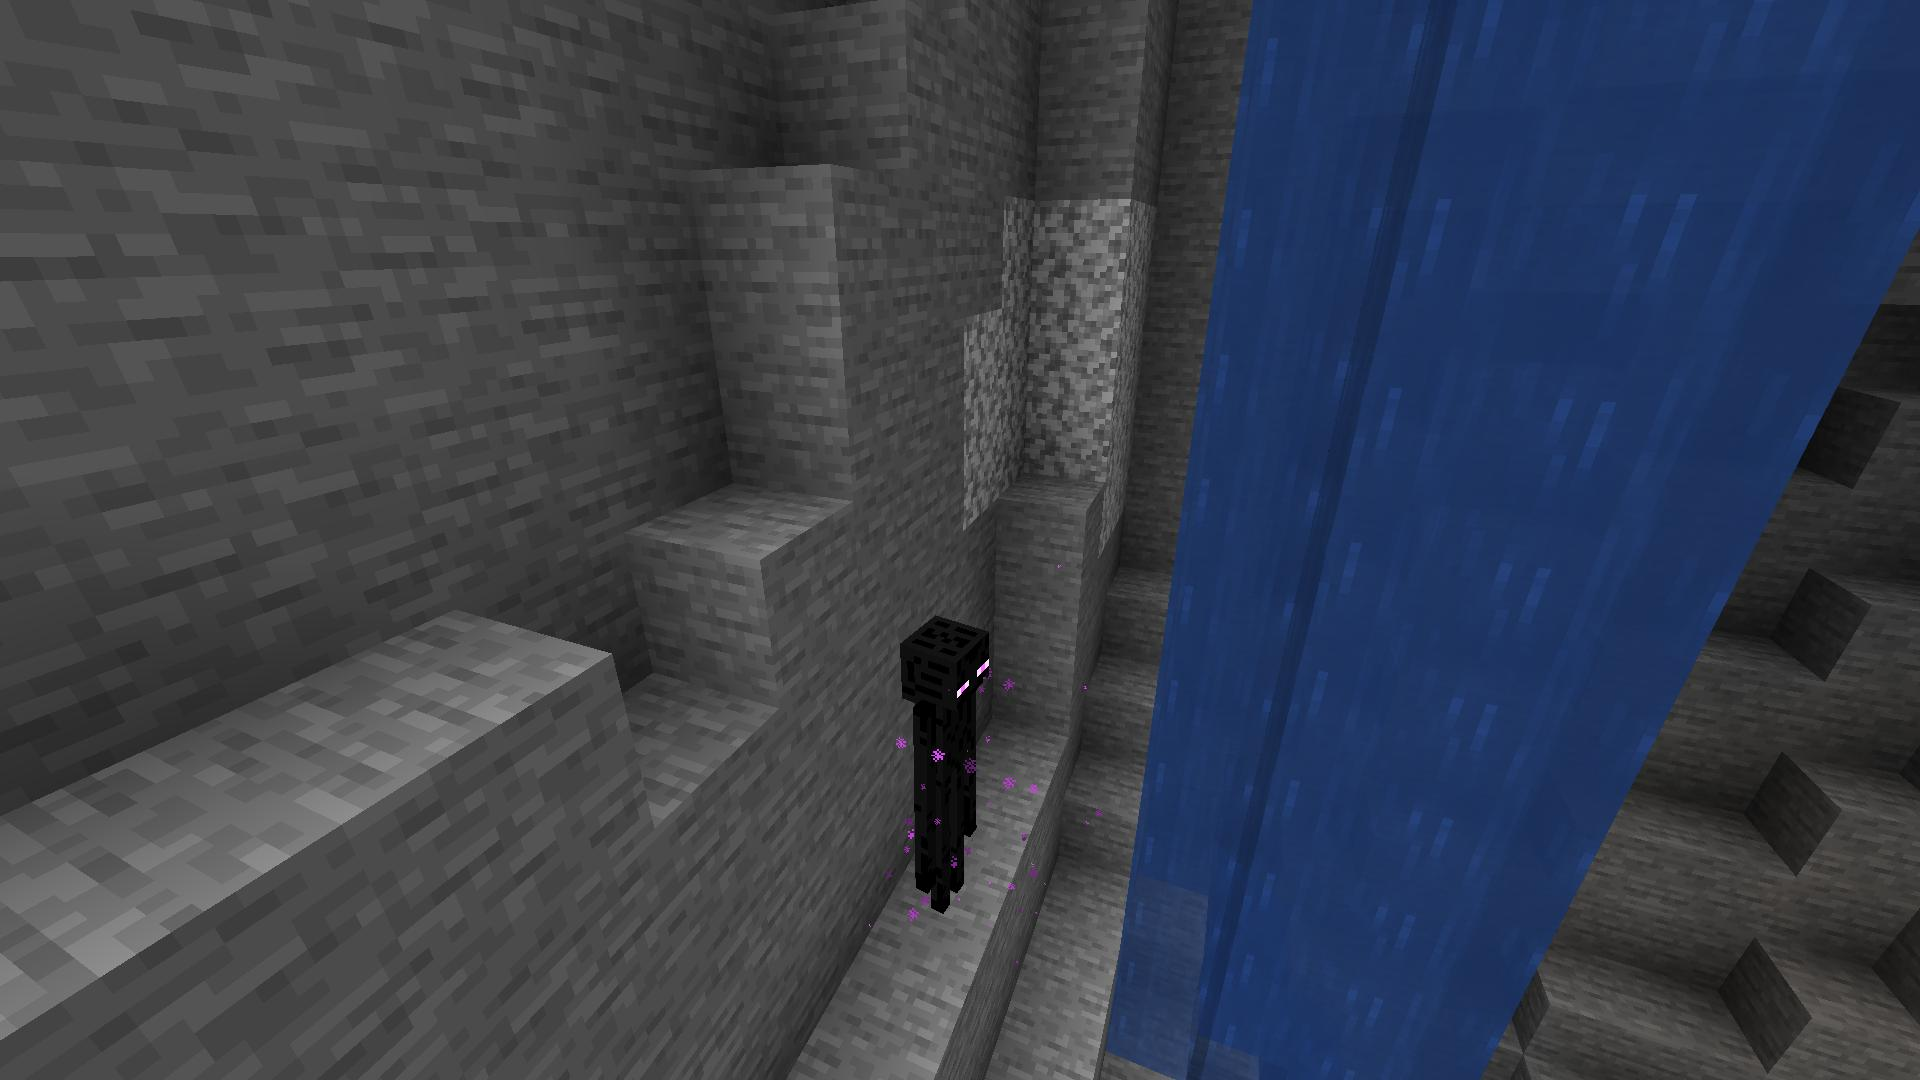enderman: (893, 603, 1010, 923)
